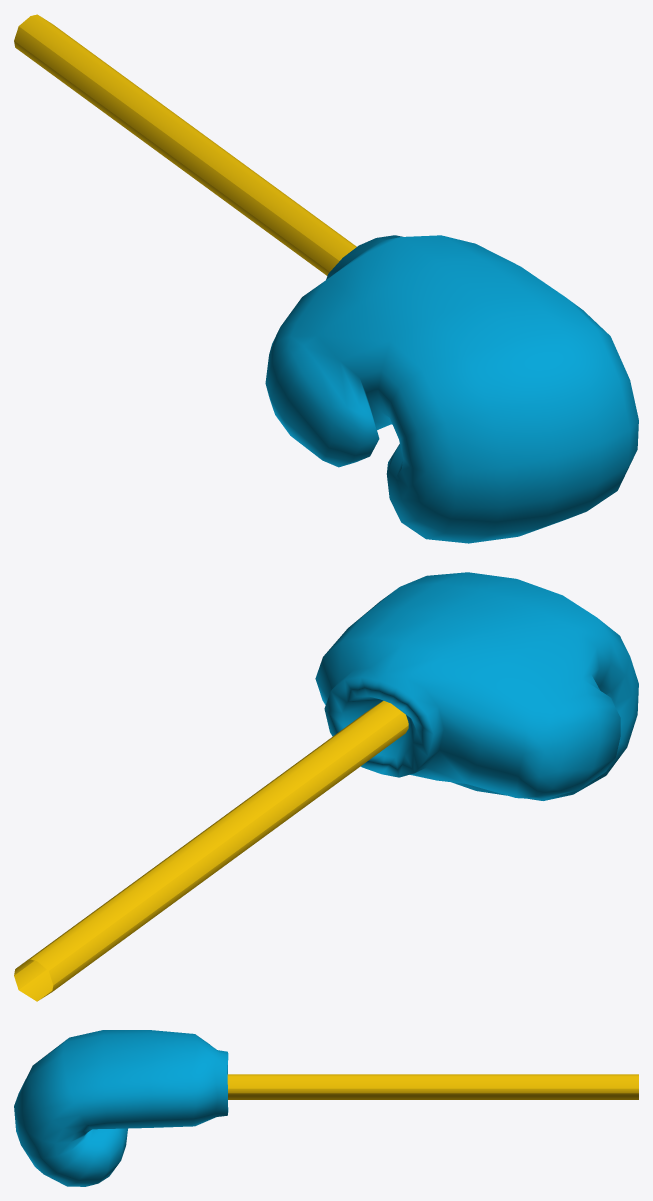
File: hand.fbx
The picture shows the model from 3 angles, top to bottom: view 1: azimuth 30°, elevation 25°; view 2: azimuth 150°, elevation 25°; view 3: azimuth 270°, elevation 25°; orthographic projection. The views are drawn at different scales.
Visible parts, largest first — view 1: polySurface2, polySurface1; view 2: polySurface2, polySurface1; view 3: polySurface2, polySurface1.
Part boxes in pixels (left/top/right/bottom): polySurface2: left=265, top=235, right=638, bottom=543; polySurface1: left=14, top=14, right=356, bottom=275; polySurface2: left=315, top=572, right=638, bottom=800; polySurface1: left=14, top=700, right=408, bottom=1001; polySurface2: left=14, top=1030, right=228, bottom=1186; polySurface1: left=227, top=1074, right=638, bottom=1099.
Bounding box in the file's own units: 23.84 × 18.9 × 81.61.
